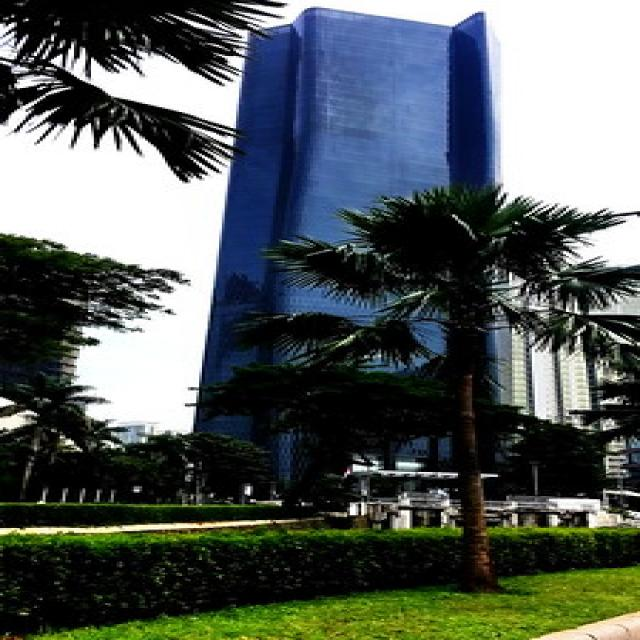Normal_building: (176, 8, 529, 520)
